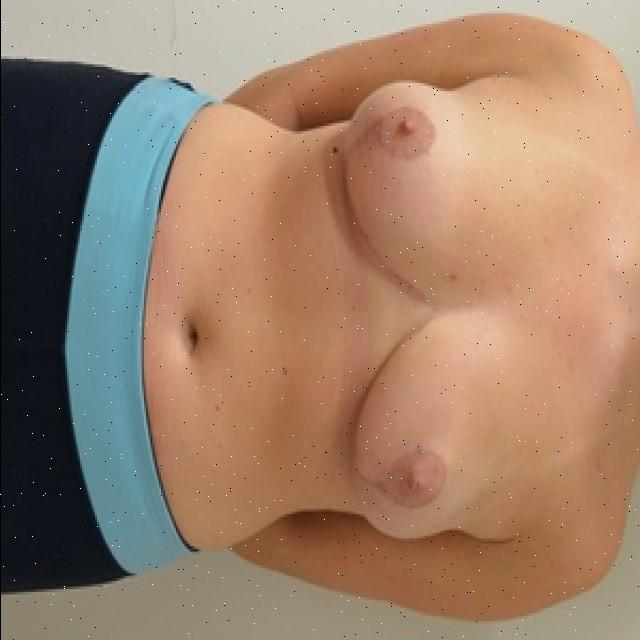Seno herido: (324, 70, 528, 305), (334, 313, 529, 550)
